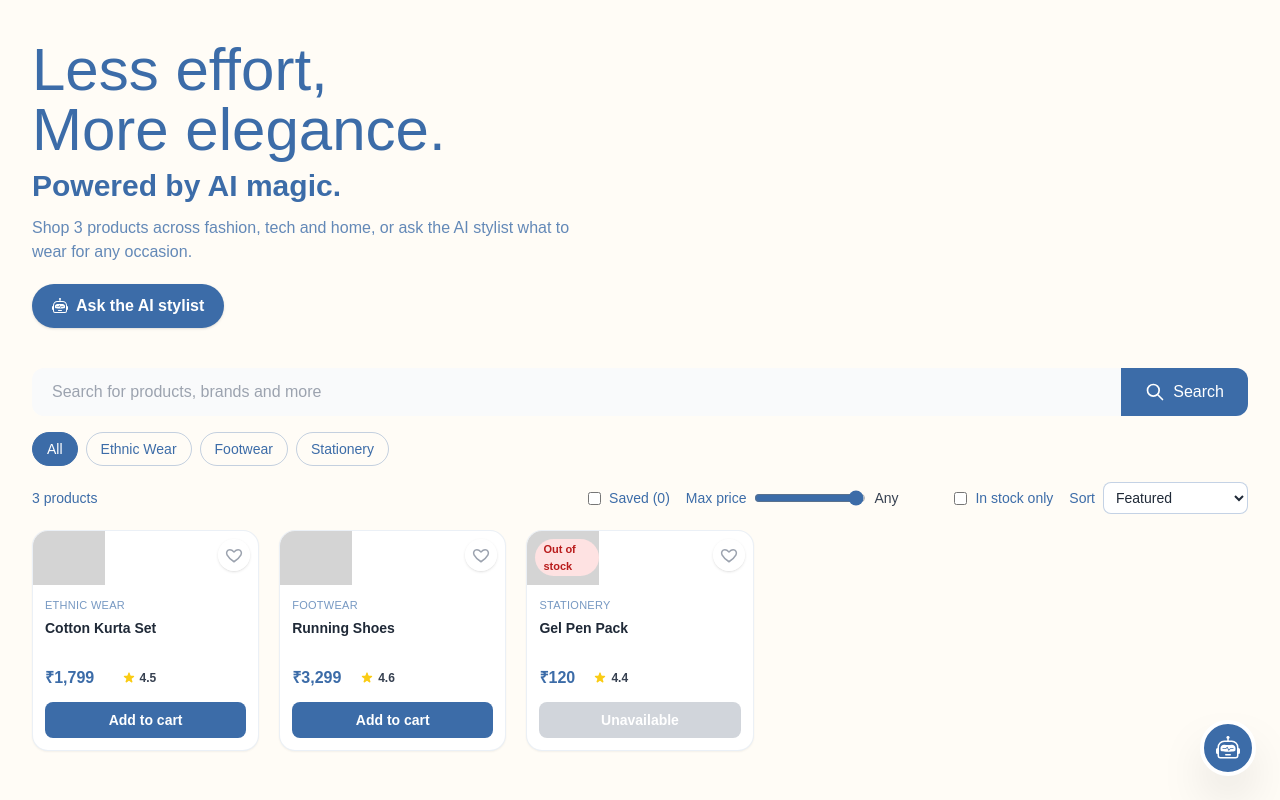
Test: Home › search narrows results and explains an empty result
This screenshot has width=1280, height=800.
Check: the list with test id "product-grid" is shown, box [32, 530, 754, 750]
Type "kurta" into the field with placeholder "Search for products, brands and more" at (577, 392), box [32, 368, 1121, 416]
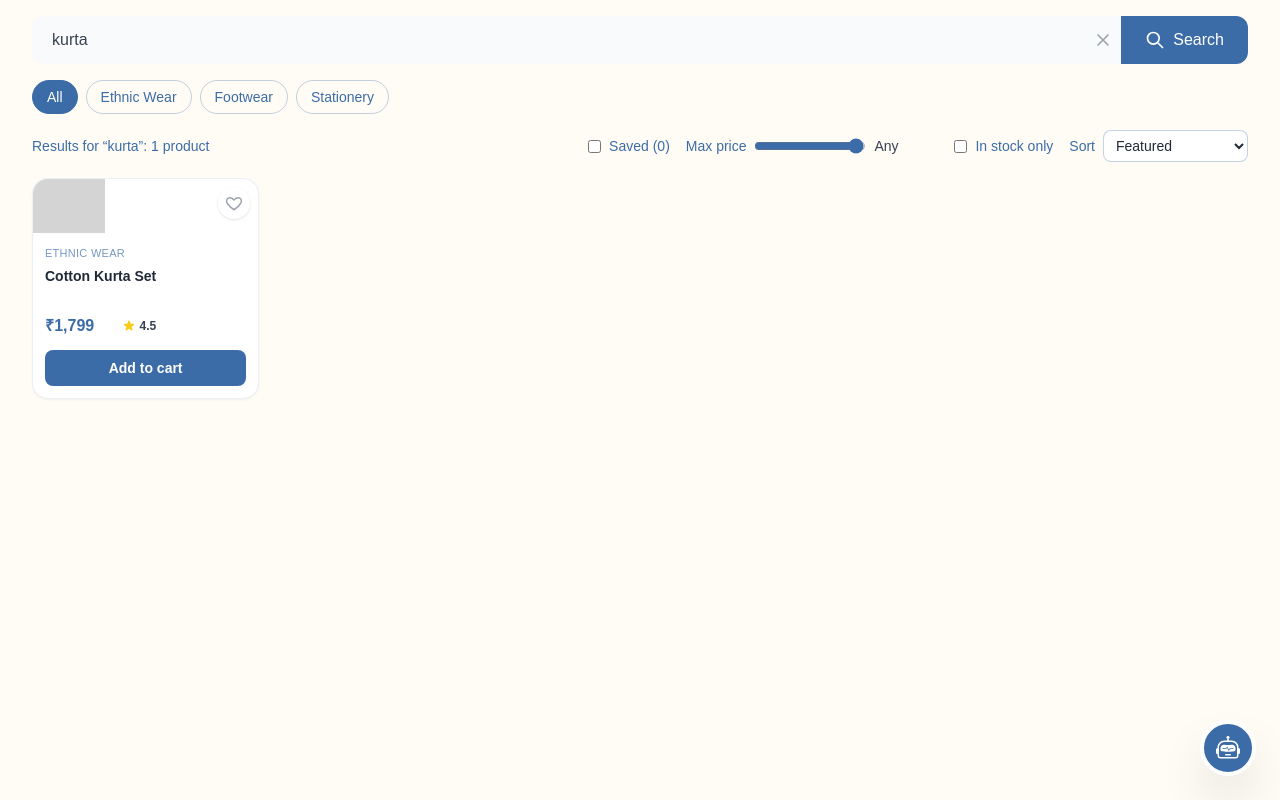
Check: the text with test id "result-count" shows "1 product", box [32, 136, 209, 156]
Replace the text in the field with placeholder "Search for products, brands and more" with "zzzz" at (559, 40), box [32, 16, 1085, 64]
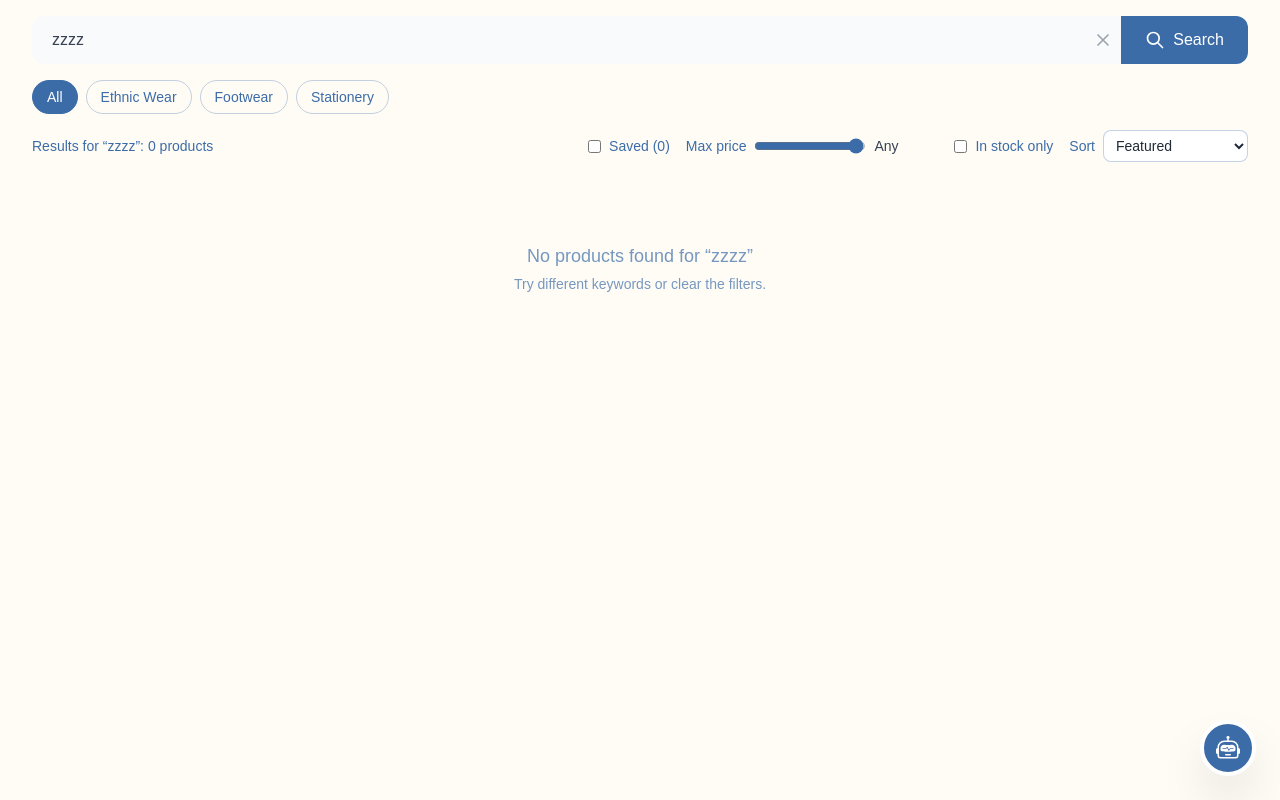
Check: the text "No products found for “zzzz”" is shown, box [527, 246, 753, 266]
